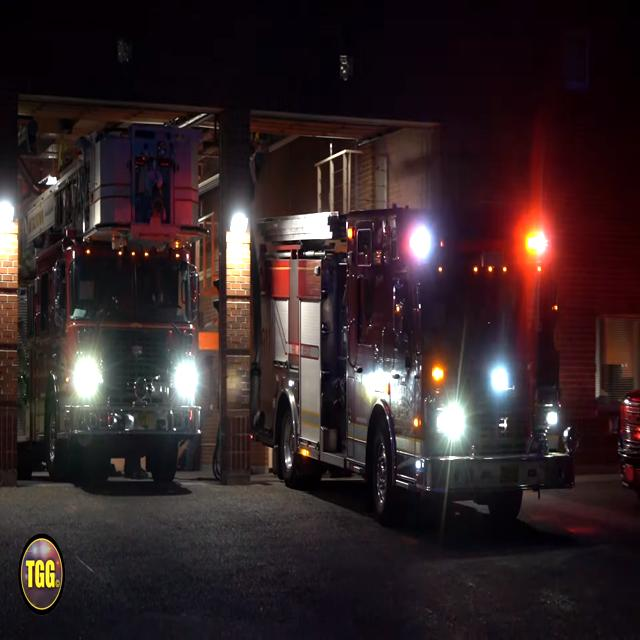emergency-vehicles: (240, 191, 594, 552), (15, 105, 224, 501)
